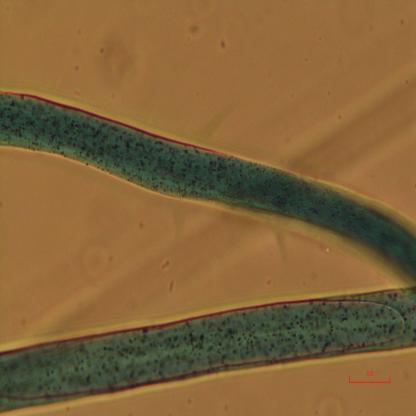Background material: (94, 32, 143, 95), (79, 228, 110, 281), (181, 16, 202, 40)
Microfibre: (0, 88, 416, 282), (0, 285, 416, 412)
